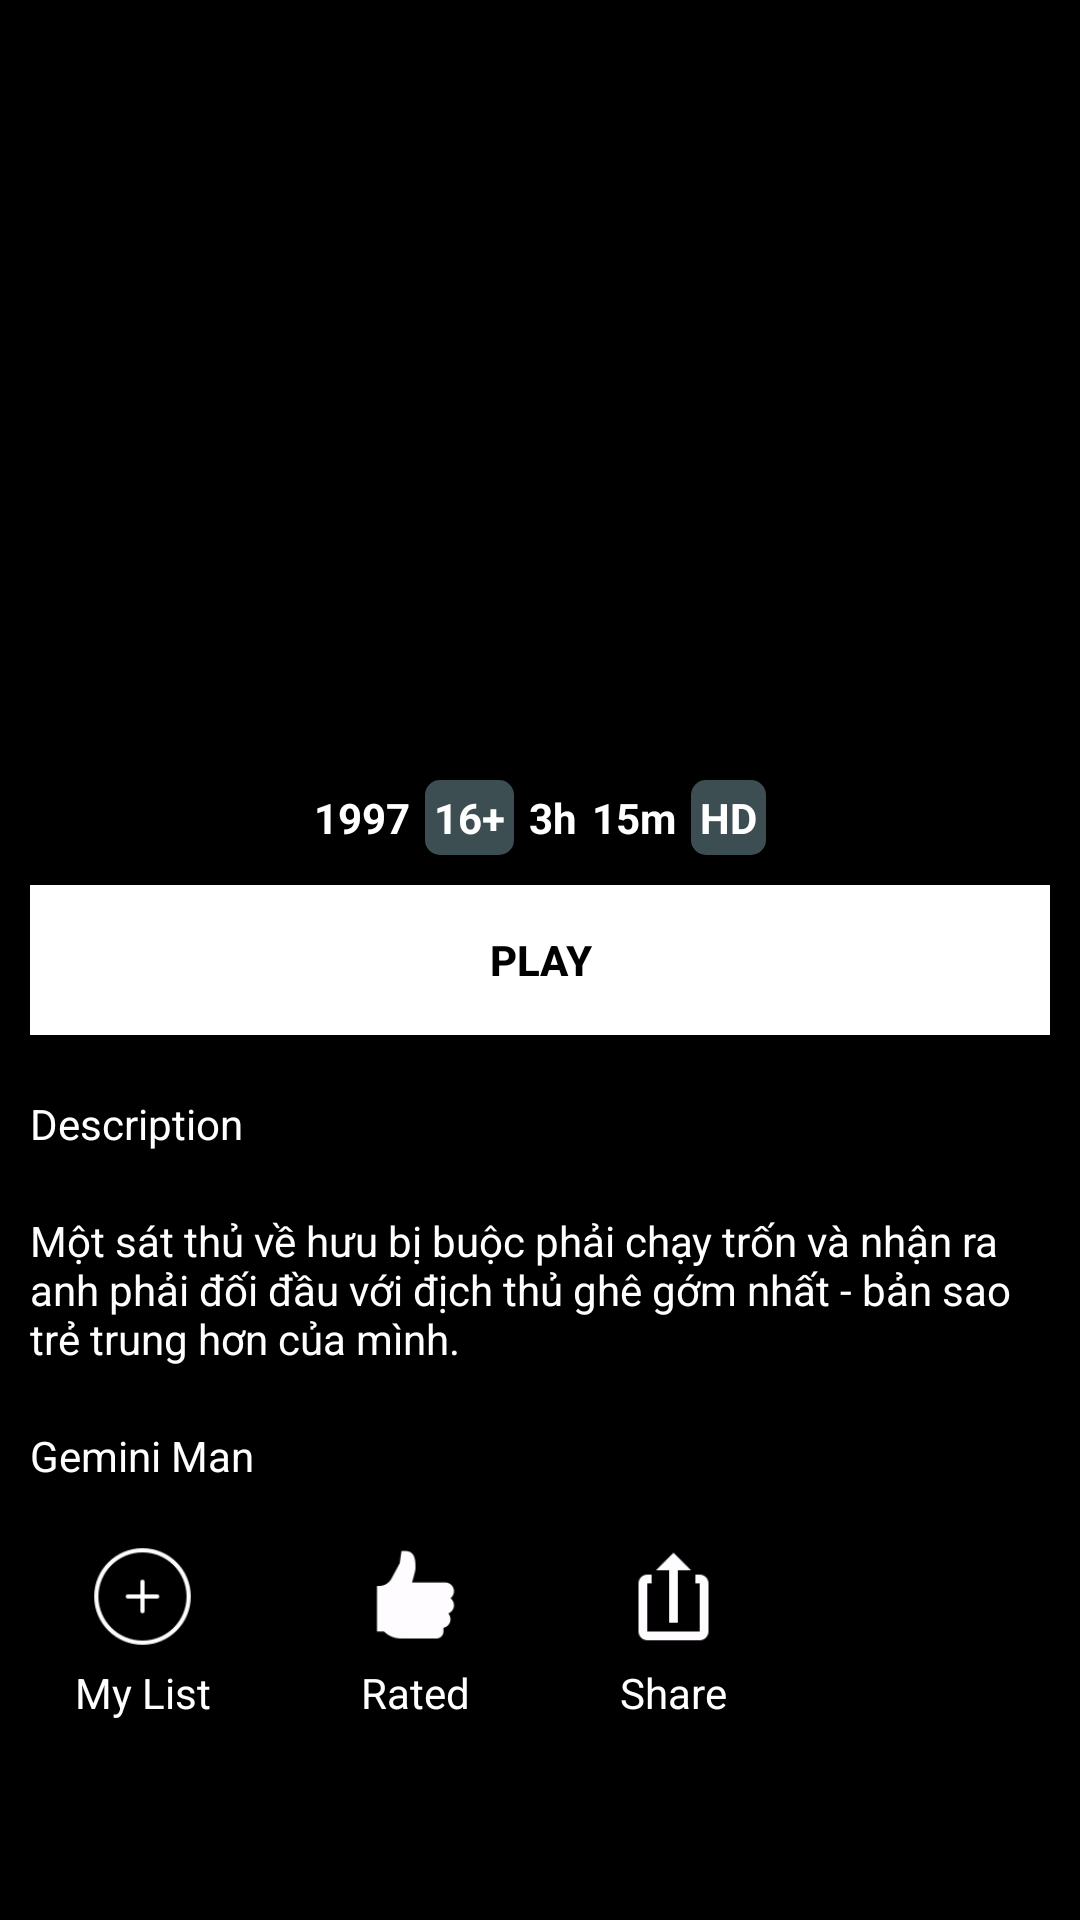

Icons on this 1080px×1920px Android screen, each with its box as box=[x1, y1, x2, y2]:
like: box=[376, 1550, 455, 1639]
plus: box=[94, 1548, 191, 1645]
